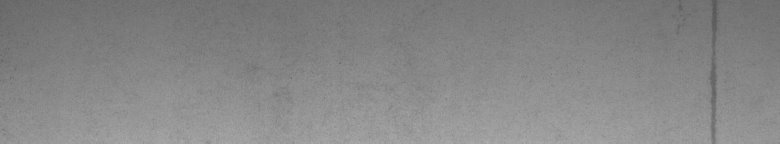hd: (679, 4, 720, 136)
